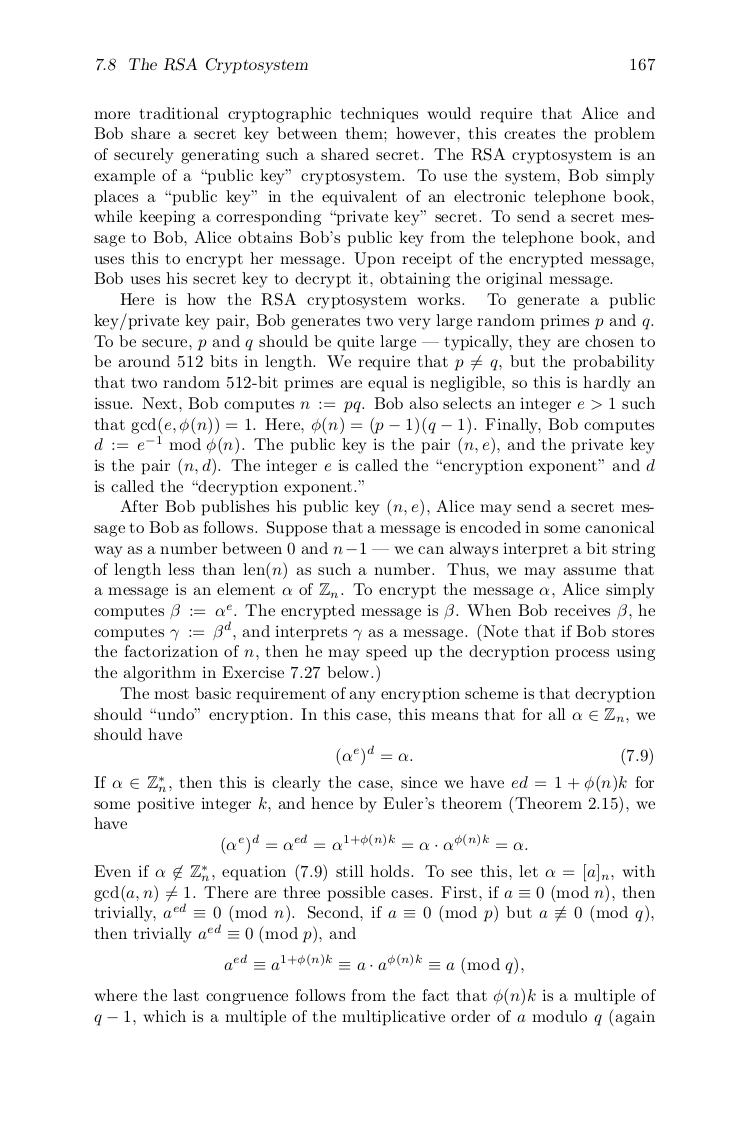formula: (221, 832, 527, 855), (336, 744, 652, 766), (224, 952, 523, 975)
